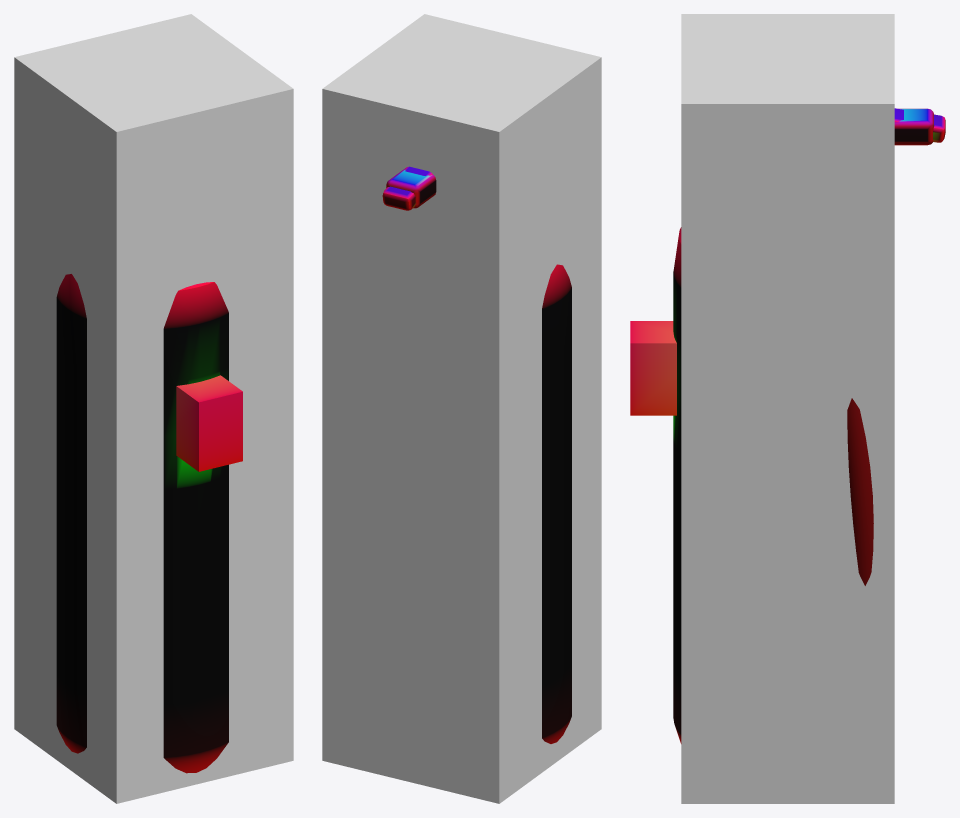
File: prop_extinguisher.fbx
3 views of the same model, side by side, from view 1: azimuth 30°, elevation 25°; view 2: azimuth 150°, elevation 25°; view 3: azimuth 270°, elevation 25° (orthographic). The views are drawn at different scales.
Visible parts, largest first — view 1: COL_0, prop_extinguisher; view 2: COL_0, prop_extinguisher; view 3: COL_0, prop_extinguisher.
Part boxes in pixels (x1,y1,x2,y2): COL_0: (14,14,293,803); prop_extinguisher: (56,274,242,773); COL_0: (322,14,601,803); prop_extinguisher: (382,166,571,743); COL_0: (681,14,894,803); prop_extinguisher: (630,108,945,743).
Size of the model in its own units: 0.1678 by 0.58 by 0.237.
